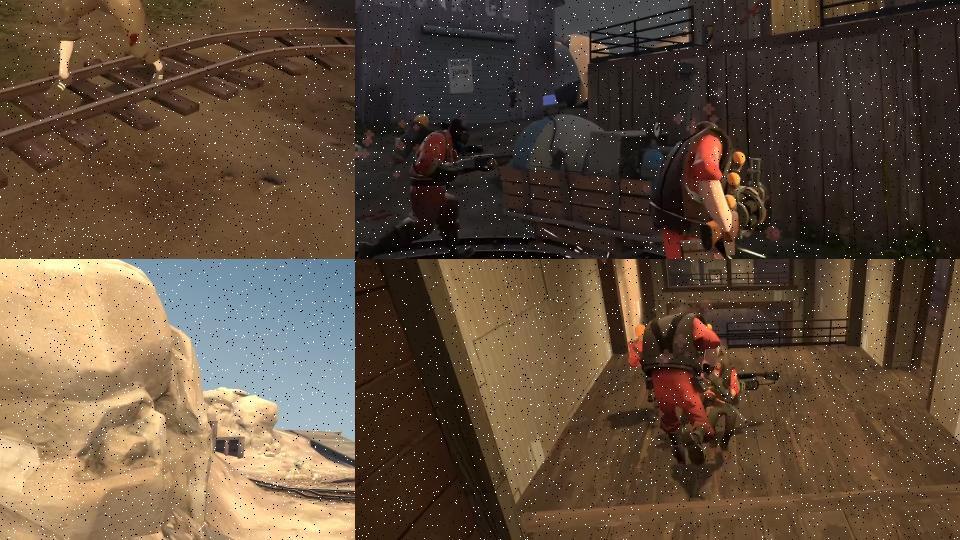Enemy: (355, 108, 515, 259), (648, 119, 771, 259), (641, 297, 721, 466), (45, 0, 165, 101), (701, 348, 749, 460), (626, 323, 656, 402), (505, 75, 523, 118)
